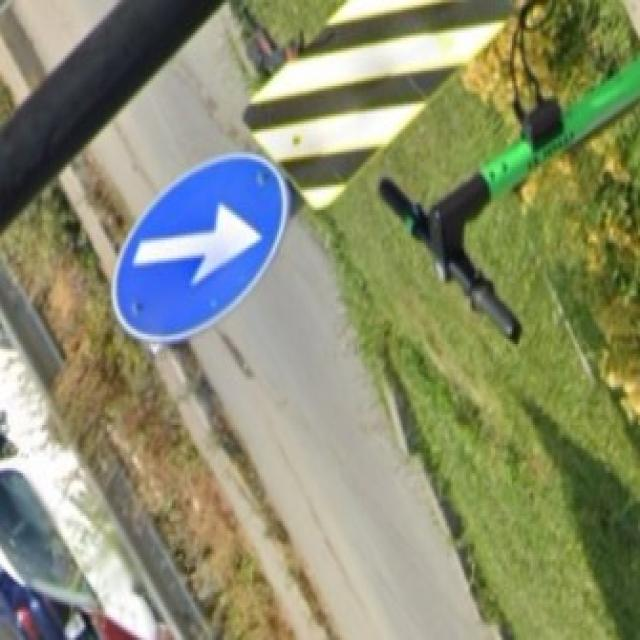Turn Right: (118, 162, 286, 344)
